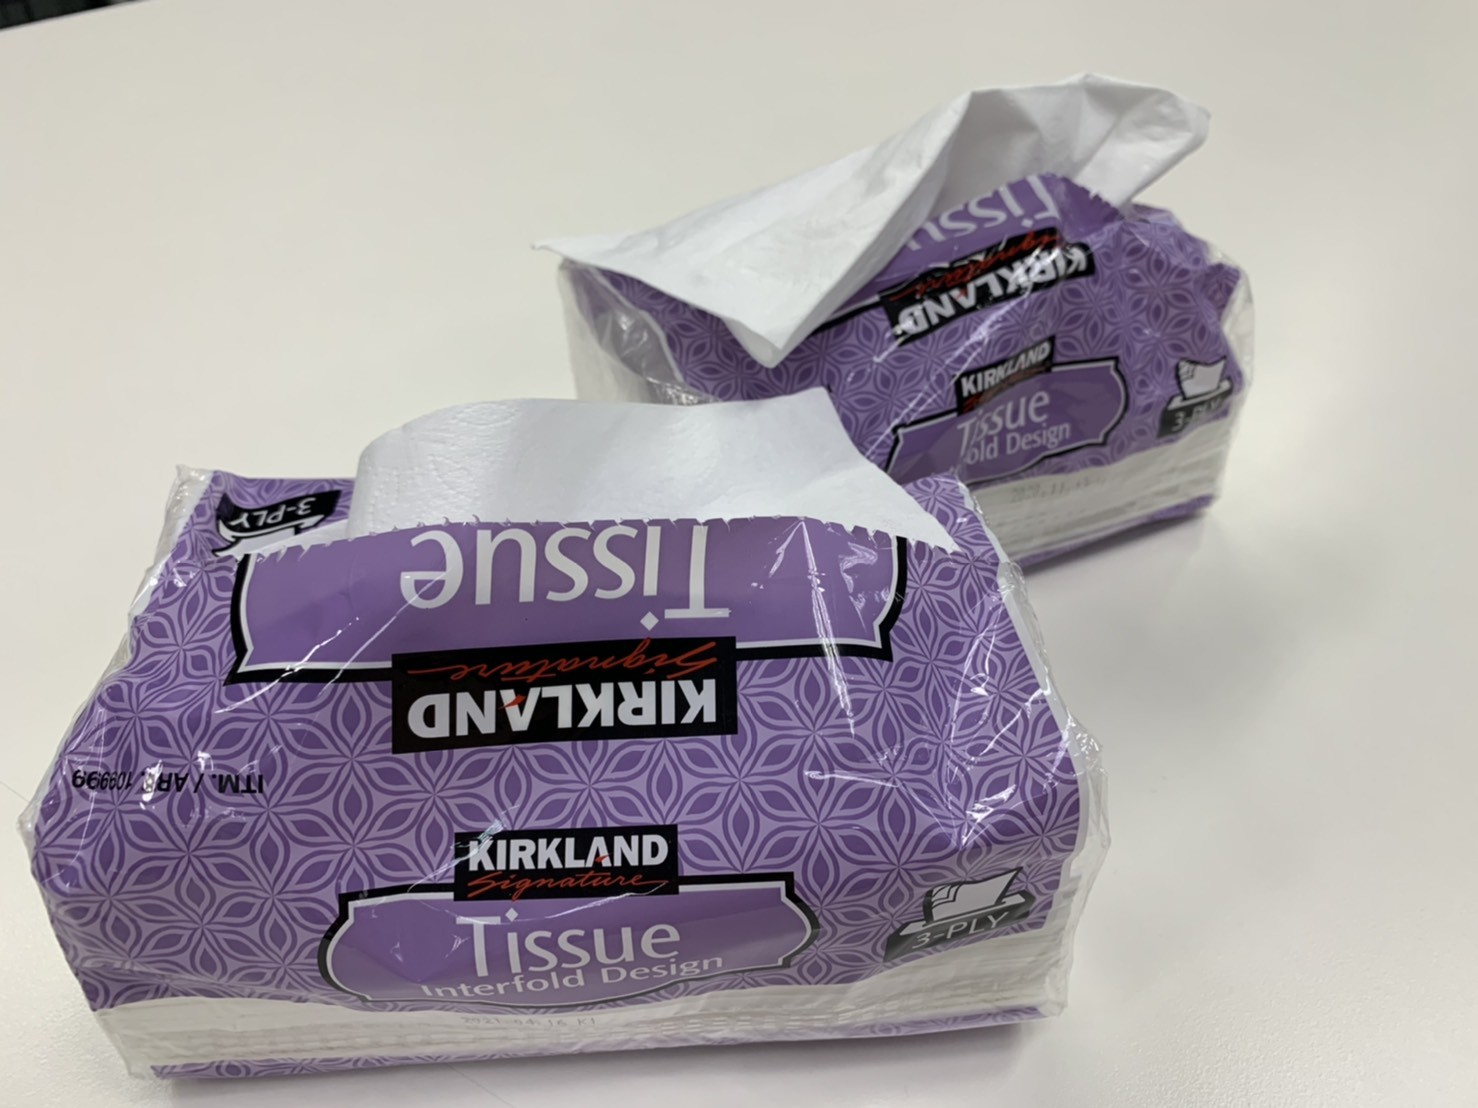tissue: (31, 422, 1106, 1082), (560, 93, 1253, 575)
